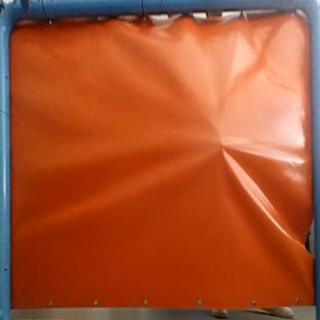Hit-hRxx: (212, 138, 234, 152)
